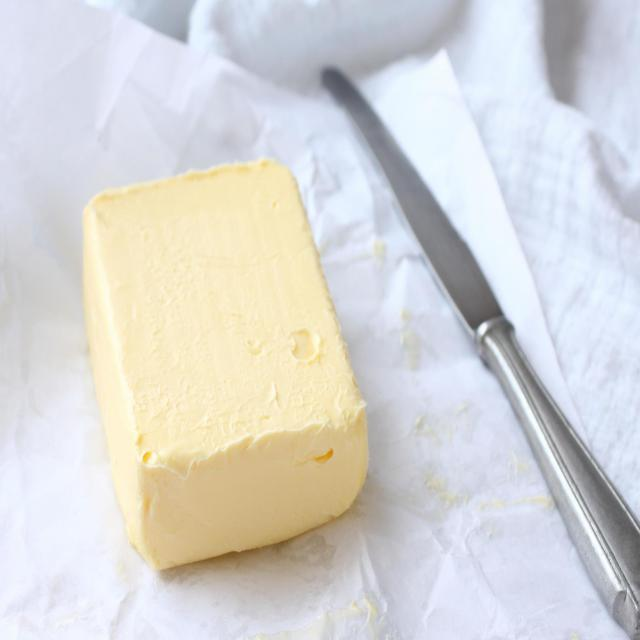Butter: (78, 153, 374, 577)
